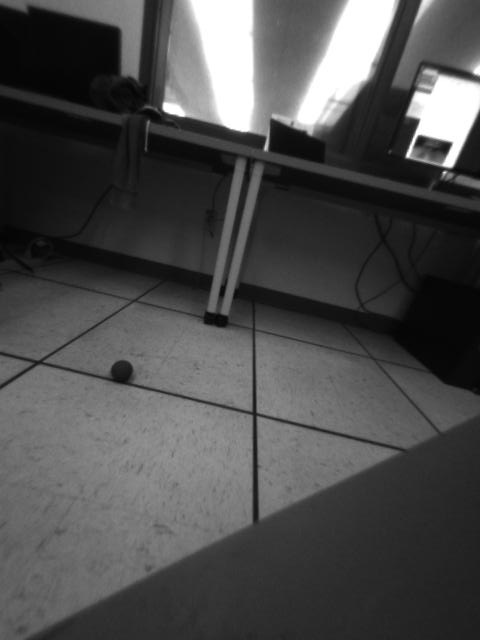dogtoy: (106, 350, 145, 393)
